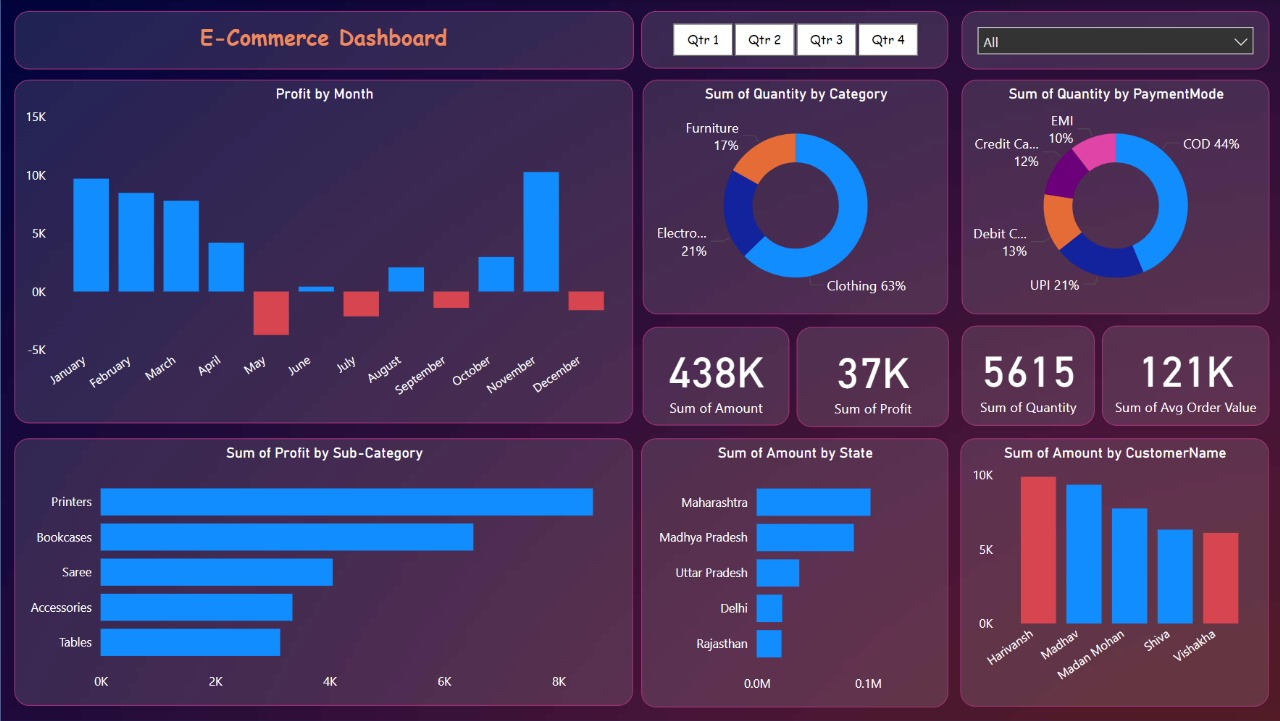

What the dashboard file says about the page in this screenshot:
{"tool":"powerbi","page":{"name":"Page 1","canvas":[1280,720],"ordinal":0},"visuals":[{"type":"textbox","box":[14,11,618,58],"z":0},{"type":"columnChart","title":"Profit by Month","fields":{"Category":["Orders.Order Date.Variation.Date Hierarchy.Month"],"Y":["Details.Profit"]},"box":[14.3,80,617.9,343.6],"z":1},{"type":"barChart","fields":{"Category":["Details.Sub-Category"],"Y":["Details.Profit"]},"box":[14.3,437.9,617.9,267.1],"z":2},{"type":"donutChart","fields":{"Category":["Details.Category"],"Y":["Details.Quantity"]},"box":[641.4,80,305,234.3],"z":3},{"type":"donutChart","fields":{"Y":["Details.Quantity"],"Category":["Details.PaymentMode"]},"box":[958.6,80,307.1,234.3],"z":4},{"type":"card","fields":{"Values":["Details.Amount"]},"box":[641.4,327.1,146.4,98.6],"z":5},{"type":"card","fields":{"Values":["Details.Quantity"]},"box":[958.6,325.7,132.9,100],"z":6},{"type":"card","fields":{"Values":["Details.Profit"]},"box":[794.3,326.4,152.1,100],"z":7},{"type":"card","fields":{"Values":["Details.Avg Order Value"]},"box":[1098.6,325.7,167.1,100],"z":8},{"type":"barChart","fields":{"Y":["Details.Amount"],"Category":["Orders.State"]},"box":[640,437.5,306.2,268.8],"z":9},{"type":"columnChart","fields":{"Category":["Orders.CustomerName"],"Y":["Details.Amount"]},"box":[957.8,437.8,307.8,267.8],"z":10},{"type":"slicer","fields":{"Values":["Orders.Order Date.Variation.Date Hierarchy.Quarter"]},"box":[640,10.9,306.1,57.8],"z":11},{"type":"slicer","fields":{"Values":["Orders.State"]},"box":[959,11,307,58],"z":12}]}

Visuals, with their boxes in screenshot pixels (x1, y1, x2, y2), scaled from the page's 1280x720 canvas onto the 1280x721 screenshot:
textbox: (14,11,632,69)
"Profit by Month" columnChart: (14,80,632,424)
barChart - Details.Sub-Category x Details.Profit: (14,439,632,706)
donutChart - Details.Category x Details.Quantity: (641,80,946,315)
donutChart - Details.Quantity x Details.PaymentMode: (959,80,1266,315)
card - Details.Amount: (641,328,788,426)
card - Details.Quantity: (959,326,1092,426)
card - Details.Profit: (794,327,946,427)
card - Details.Avg Order Value: (1099,326,1266,426)
barChart - Details.Amount x Orders.State: (640,438,946,707)
columnChart - Orders.CustomerName x Details.Amount: (958,438,1266,707)
slicer - Orders.Order Date.Variation.Date Hierarchy.Quarter: (640,11,946,69)
slicer - Orders.State: (959,11,1266,69)
